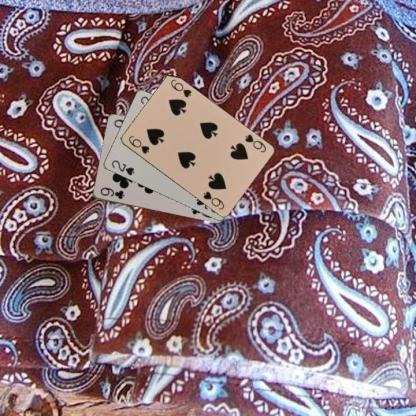2s: (108, 157, 136, 177)
6s: (125, 133, 151, 155), (241, 132, 267, 154)
9c: (98, 185, 125, 200)
